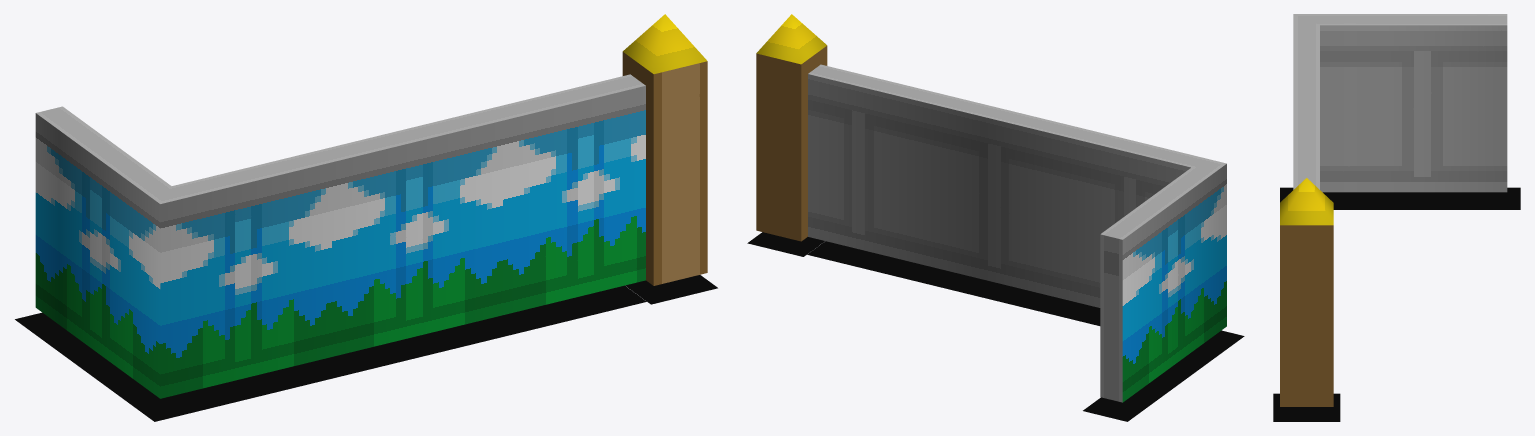
The model's file is Day Care Fence.obj.
The picture shows the model from 3 angles, left to right: view 1: azimuth 30°, elevation 25°; view 2: azimuth 150°, elevation 25°; view 3: azimuth 270°, elevation 25°; orthographic projection. The views are drawn at different scales.
Parts seen in each view (by area): view 1: polygon0, polygon3, polygon2; view 2: polygon1, polygon3, polygon0, polygon2; view 3: polygon1, polygon3, polygon2.
Part boxes in pixels (bbox=[...]): polygon0: bbox=[35, 86, 645, 398]; polygon3: bbox=[36, 14, 707, 285]; polygon2: bbox=[15, 275, 717, 421]; polygon1: bbox=[808, 74, 1190, 307]; polygon3: bbox=[756, 14, 1226, 402]; polygon0: bbox=[1122, 164, 1226, 402]; polygon2: bbox=[747, 232, 1244, 421]; polygon1: bbox=[1320, 25, 1507, 192]; polygon3: bbox=[1280, 14, 1507, 406]; polygon2: bbox=[1273, 187, 1520, 421].
Size of the model in its own units: 83.03 by 38 by 37.
4 materials, 4 textured.
